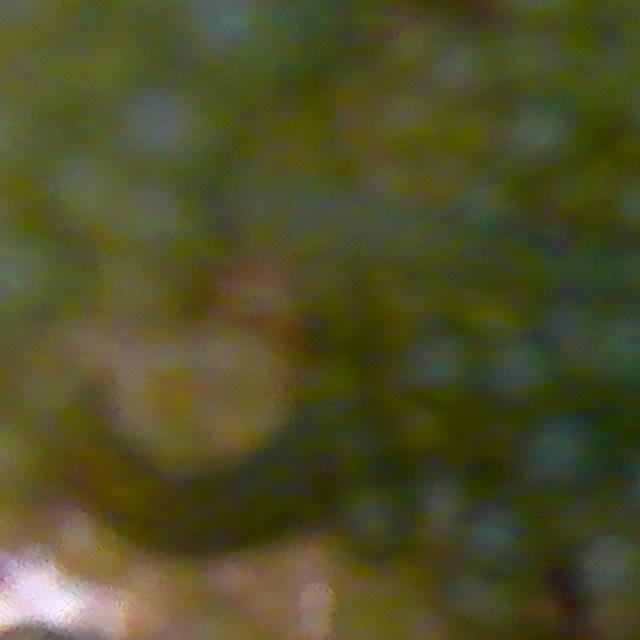SeaGrape: (190, 0, 305, 92), (330, 476, 409, 560), (476, 329, 558, 409), (516, 413, 596, 495), (128, 101, 218, 173), (500, 96, 581, 175), (0, 104, 67, 195), (462, 502, 535, 575), (579, 305, 640, 392), (0, 233, 56, 322), (406, 328, 476, 398), (577, 529, 640, 603), (462, 287, 527, 346), (393, 402, 451, 459)
